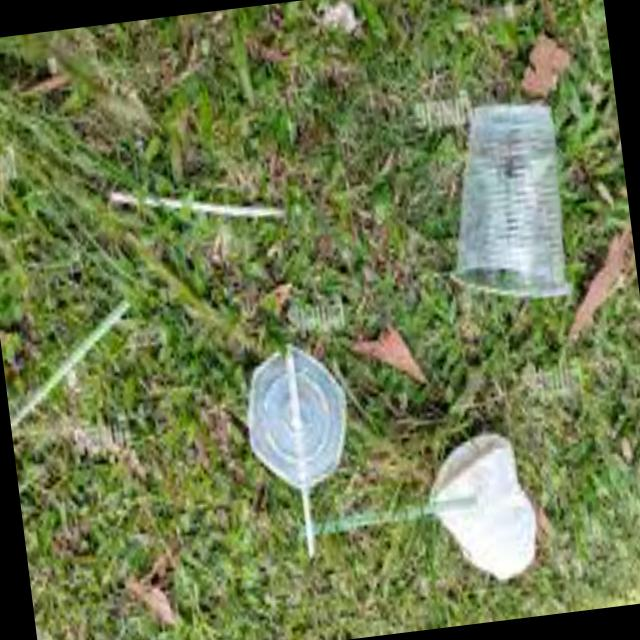GelasPlastik: (430, 96, 576, 312)
